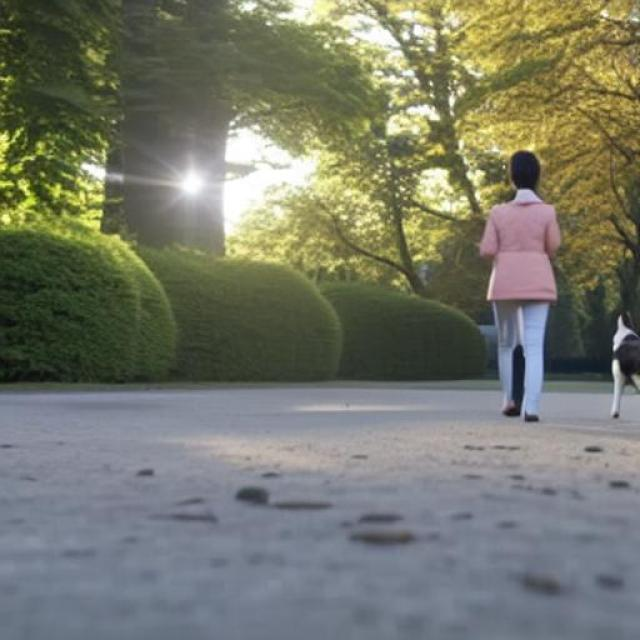Unleashed_Dog: (491, 300, 640, 422)
